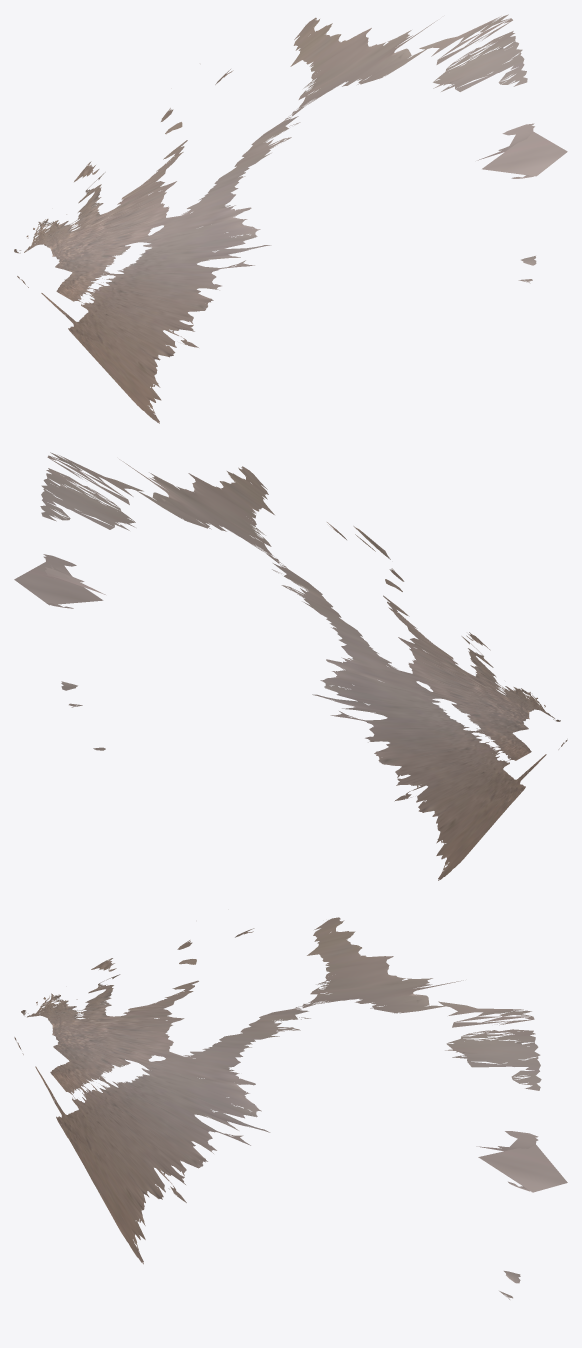
The model's file is context-1.glb.
3 views of the same model, one above another, from view 1: azimuth 30°, elevation 25°; view 2: azimuth 150°, elevation 25°; view 3: azimuth 330°, elevation 25° (orthographic). The views are drawn at different scales.
Size of the model in its own units: 114 by 72.48 by 13.34.
1 material, 1 textured.
